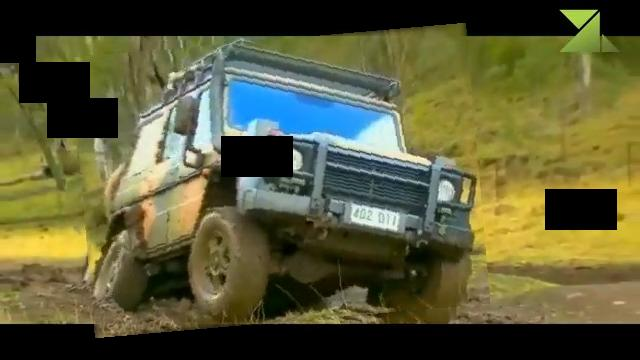MIL_HMMWV: (77, 32, 485, 330)
